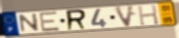4: (90, 8, 110, 29)
E: (39, 11, 61, 33)
H: (137, 4, 161, 26)
N: (18, 12, 41, 34)
R: (66, 9, 88, 32)
V: (113, 5, 136, 28)
